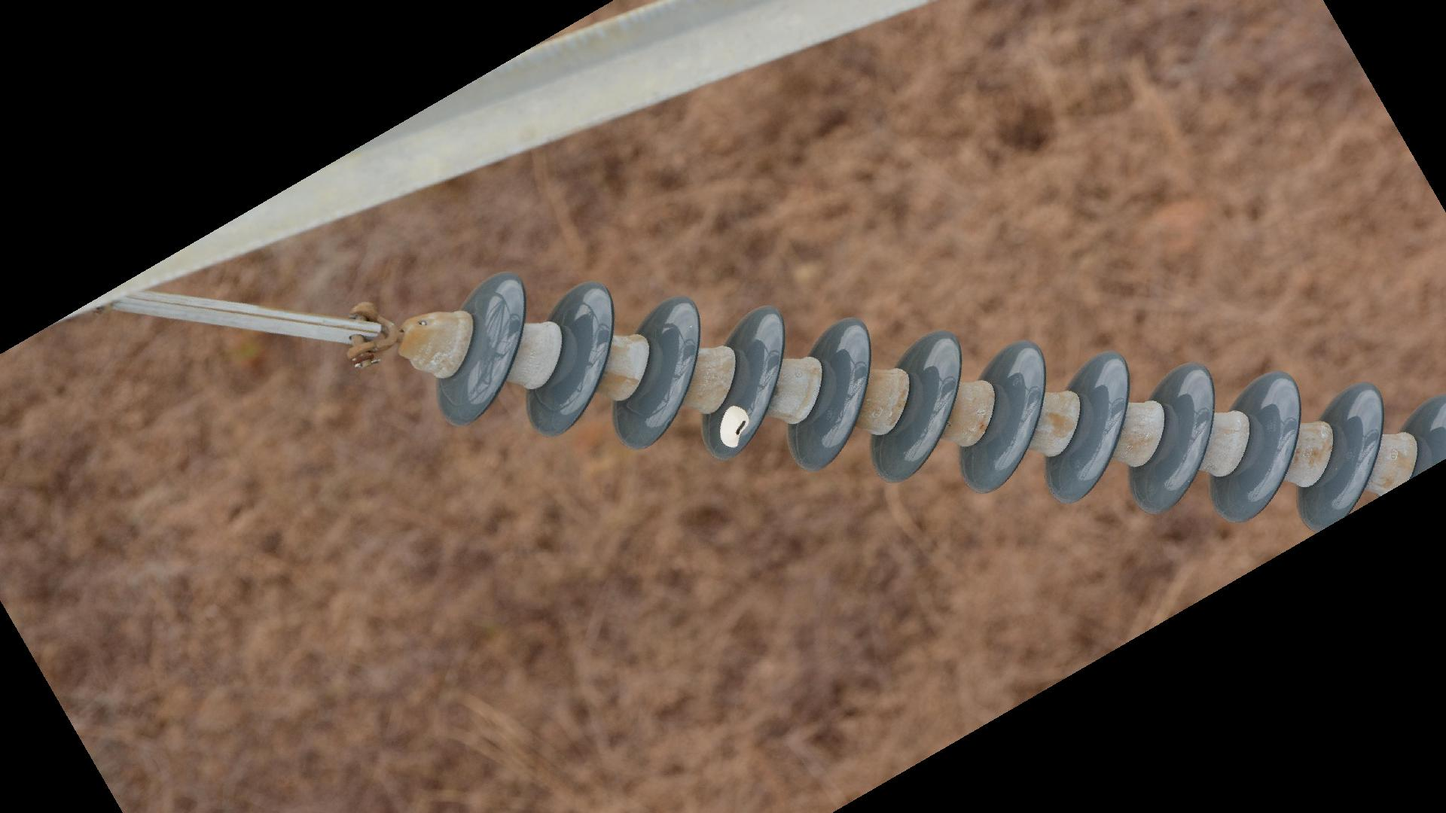insulator: (431, 267, 1446, 532)
insulator_breakage: (713, 397, 756, 454)
